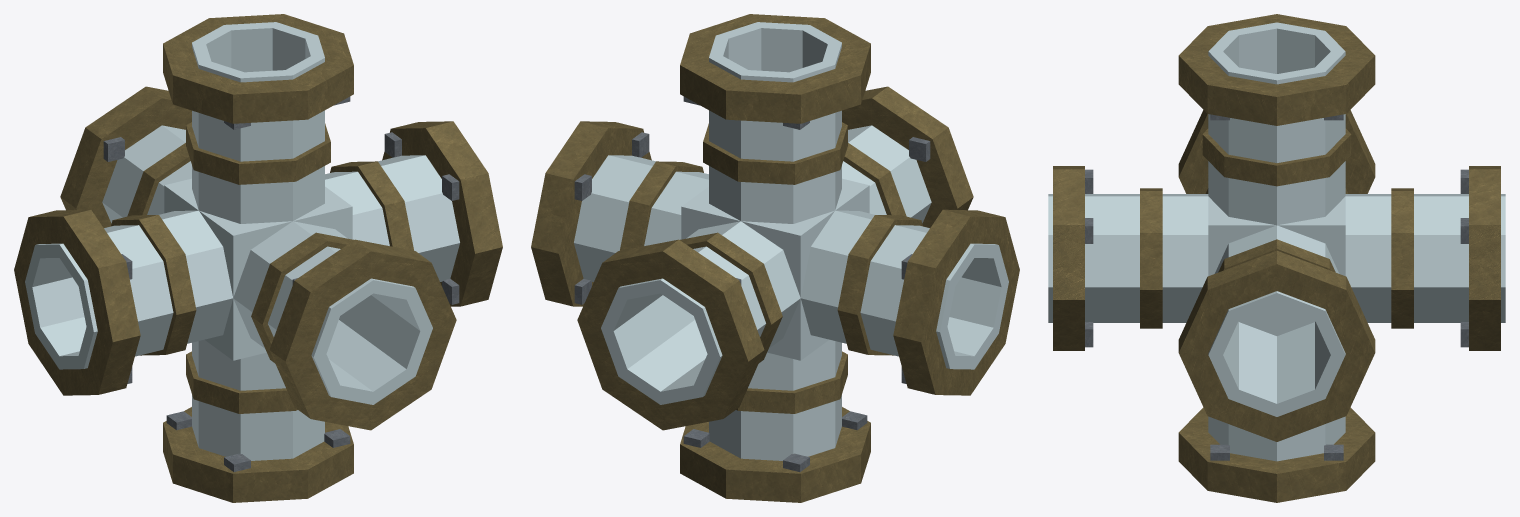
The model's file is glass_pipe.gltf.
The picture shows the model from 3 angles, left to right: view 1: azimuth 30°, elevation 25°; view 2: azimuth 150°, elevation 25°; view 3: azimuth 270°, elevation 25°; orthographic projection.
Bounding box in the file's own units: 1 × 1 × 1.
3 materials, 2 textured.
